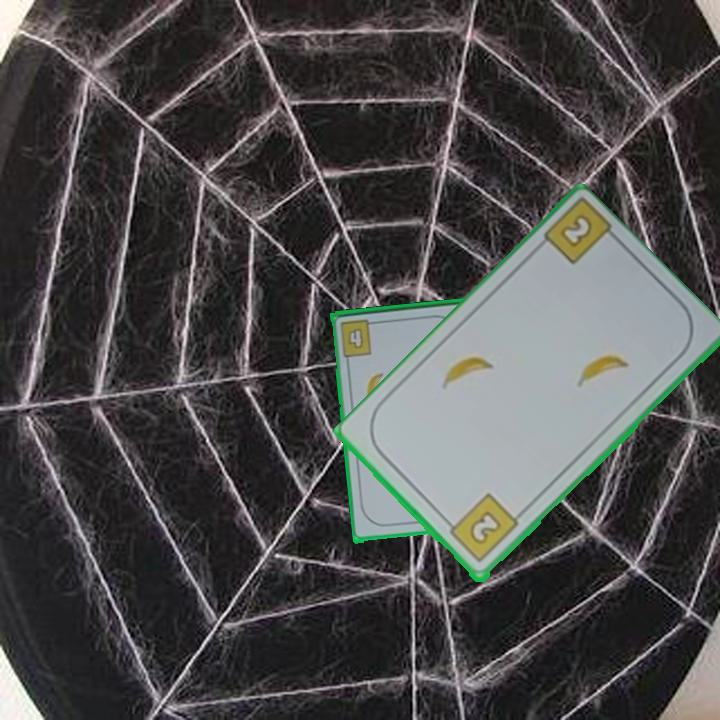2b: (441, 490, 522, 566), (556, 211, 596, 251)
4b: (337, 315, 380, 360)
